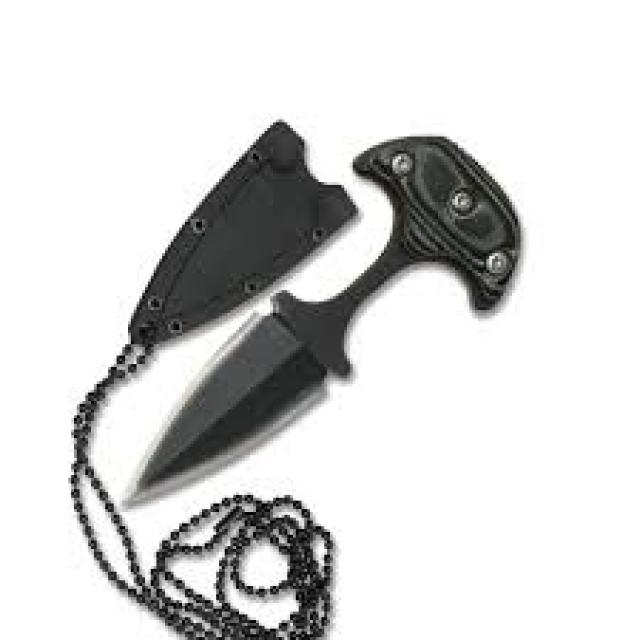knives: (122, 125, 529, 509)
